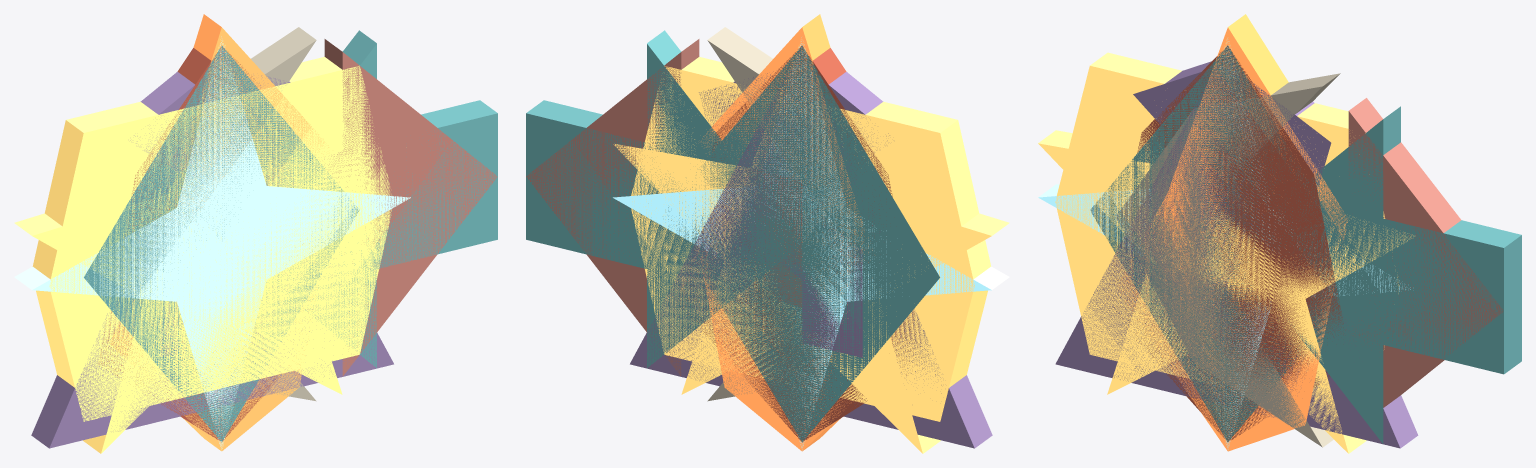
File: ember_pictograms.glb
The picture shows the model from 3 angles, left to right: view 1: azimuth 30°, elevation 25°; view 2: azimuth 150°, elevation 25°; view 3: azimuth 330°, elevation 25°; orthographic projection.
Parts seen in each view (by area): view 1: OrbShape, IceShape, DiamondShape, RightShape, LeftShape, FlameShape, TriangleShape, StarShape, PepperShape, MoonShape, QuestionShape; view 2: DiamondShape, OrbShape, LeftShape, TriangleShape, RightShape, StarShape, FlameShape, IceShape, PepperShape, QuestionShape, MoonShape; view 3: LeftShape, PepperShape, DiamondShape, OrbShape, MoonShape, StarShape, TriangleShape, FlameShape, RightShape, QuestionShape, IceShape.
Part boxes in pixels (bbox=[...]): OrbShape: bbox=[32, 57, 391, 421]; IceShape: bbox=[14, 36, 410, 449]; DiamondShape: bbox=[84, 46, 359, 442]; RightShape: bbox=[266, 39, 497, 376]; LeftShape: bbox=[305, 30, 497, 367]; FlameShape: bbox=[110, 14, 328, 451]; TriangleShape: bbox=[31, 47, 393, 448]; StarShape: bbox=[14, 39, 342, 453]; PepperShape: bbox=[98, 45, 279, 441]; MoonShape: bbox=[134, 27, 316, 401]; QuestionShape: bbox=[130, 72, 290, 356]; DiamondShape: bbox=[668, 46, 939, 442]; OrbShape: bbox=[631, 57, 991, 421]; LeftShape: bbox=[526, 30, 800, 367]; TriangleShape: bbox=[630, 46, 992, 448]; RightShape: bbox=[526, 39, 802, 375]; StarShape: bbox=[613, 41, 1009, 453]; FlameShape: bbox=[699, 14, 900, 451]; IceShape: bbox=[613, 37, 1009, 450]; PepperShape: bbox=[680, 47, 920, 442]; QuestionShape: bbox=[699, 71, 889, 357]; MoonShape: bbox=[707, 27, 811, 401]; LeftShape: bbox=[1256, 106, 1521, 443]; PepperShape: bbox=[1105, 46, 1343, 441]; DiamondShape: bbox=[1090, 45, 1365, 442]; OrbShape: bbox=[1055, 52, 1399, 383]; MoonShape: bbox=[1117, 73, 1340, 447]; StarShape: bbox=[1038, 38, 1414, 453]; TriangleShape: bbox=[1055, 53, 1418, 448]; FlameShape: bbox=[1118, 14, 1347, 451]; RightShape: bbox=[1228, 98, 1503, 407]; QuestionShape: bbox=[1133, 61, 1331, 340]; IceShape: bbox=[1038, 39, 1410, 449].
Bounding box in the file's own units: 2.7 × 2.35 × 0.18.
